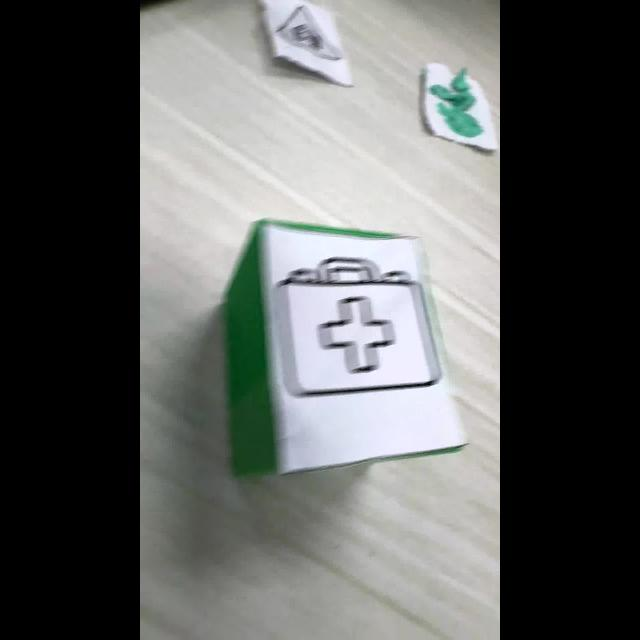Medkit: (277, 254, 442, 396)
